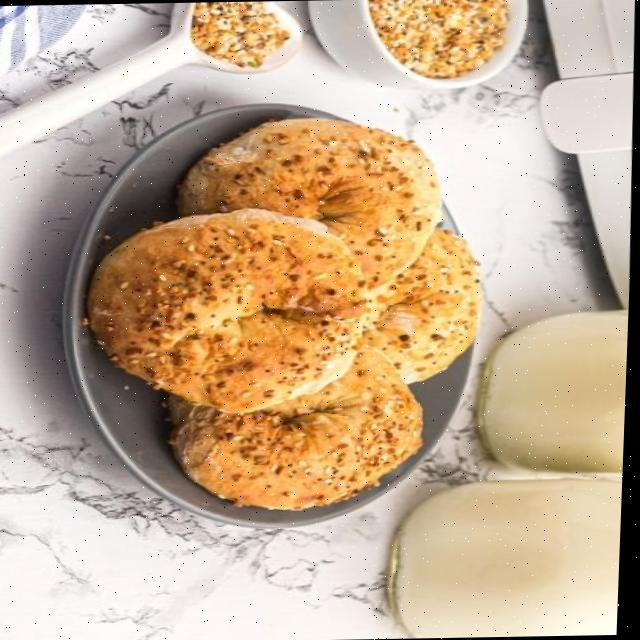Bagel: (88, 209, 368, 413), (177, 117, 441, 290), (170, 345, 425, 510), (364, 229, 483, 383)
